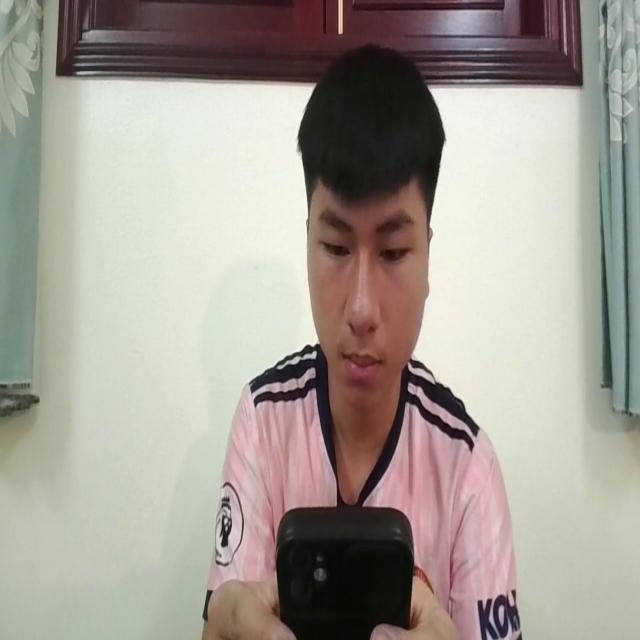phone: (272, 494, 421, 640)
student: (201, 39, 523, 640)
